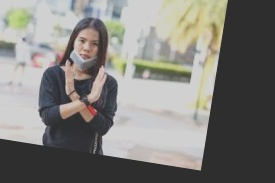mask_weared_incorrect: (67, 19, 104, 73)
